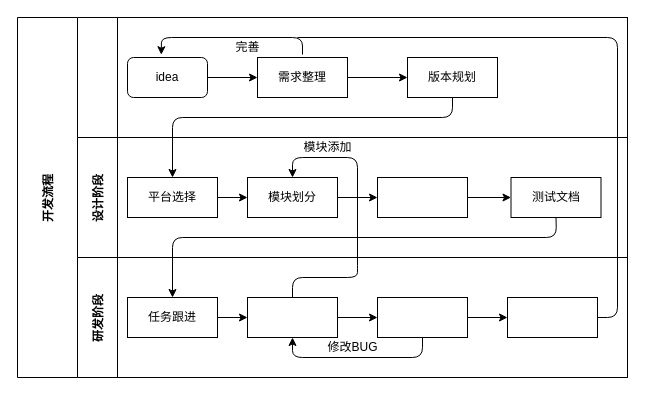
Some shapes in this 645 by 395 pixel diagram are drawn without their labels. The shapes that lost their labels are listed below. From the top down, each one's box as (x1, y1, x2, y2) in pixels, then its label:
(76, 16, 628, 138): 需求阶段
(376, 176, 468, 218): 交互设计
(246, 296, 338, 338): 设计实现
(376, 296, 468, 338): 测试功能
(506, 296, 598, 338): 迭代更新
